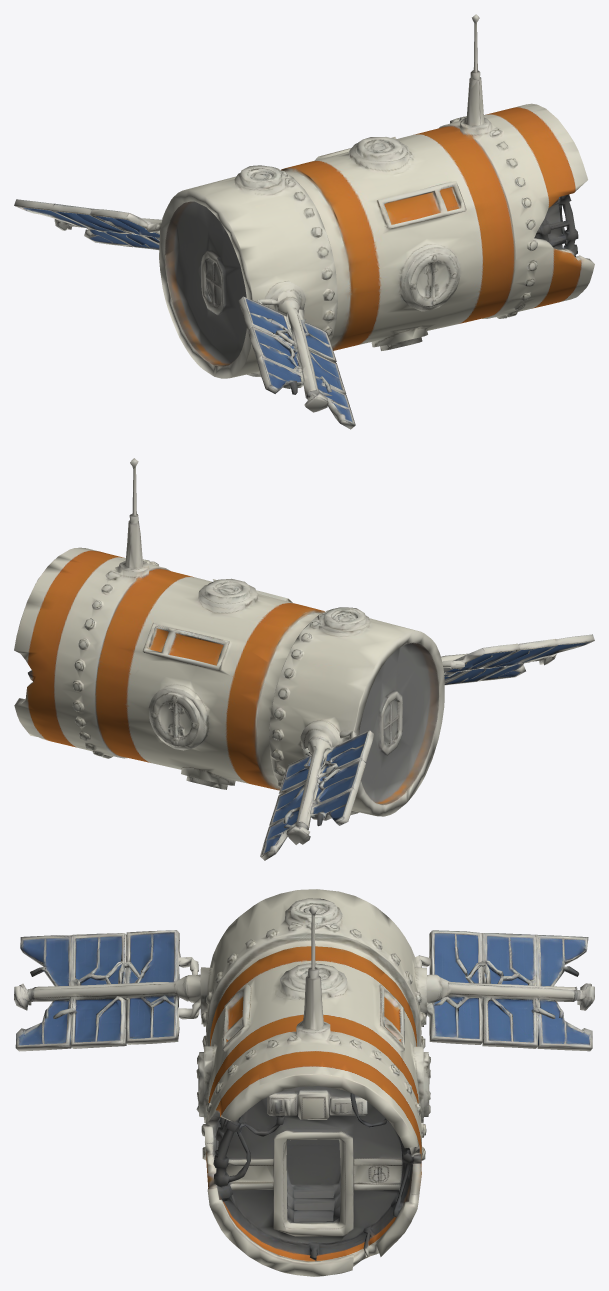
The model's file is station.glb.
3 renders of one model, top to bottom at view 1: azimuth 30°, elevation 25°; view 2: azimuth 150°, elevation 25°; view 3: azimuth 270°, elevation 25°, orthographic. The views are drawn at different scales.
Visible parts, largest first — view 1: tripo_node_1ec6fe18-5de0-4a7e-b158-6d1504a38475; view 2: tripo_node_1ec6fe18-5de0-4a7e-b158-6d1504a38475; view 3: tripo_node_1ec6fe18-5de0-4a7e-b158-6d1504a38475.
Boxes of the visible parts, x1,y1,x2,y2 form: tripo_node_1ec6fe18-5de0-4a7e-b158-6d1504a38475: [14, 14, 594, 429]; tripo_node_1ec6fe18-5de0-4a7e-b158-6d1504a38475: [14, 458, 594, 860]; tripo_node_1ec6fe18-5de0-4a7e-b158-6d1504a38475: [14, 889, 594, 1276].
Bounding box in the file's own units: 0.924 × 0.6435 × 1.
1 material, 1 textured.
